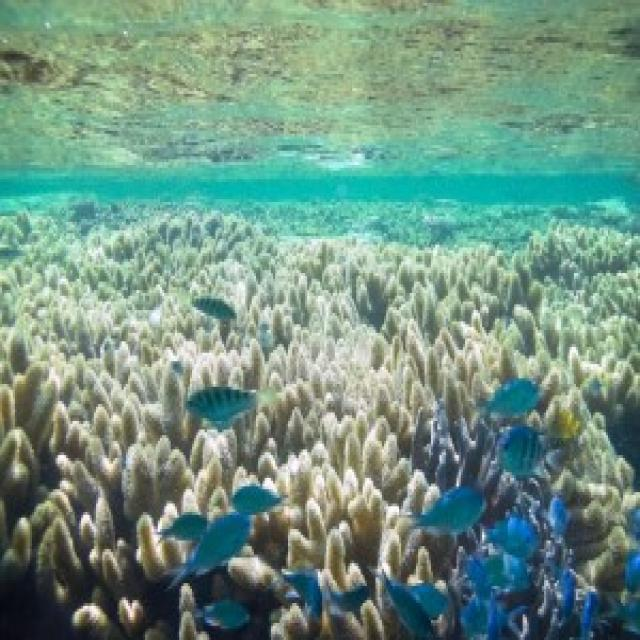Healthy: (1, 200, 639, 638)
